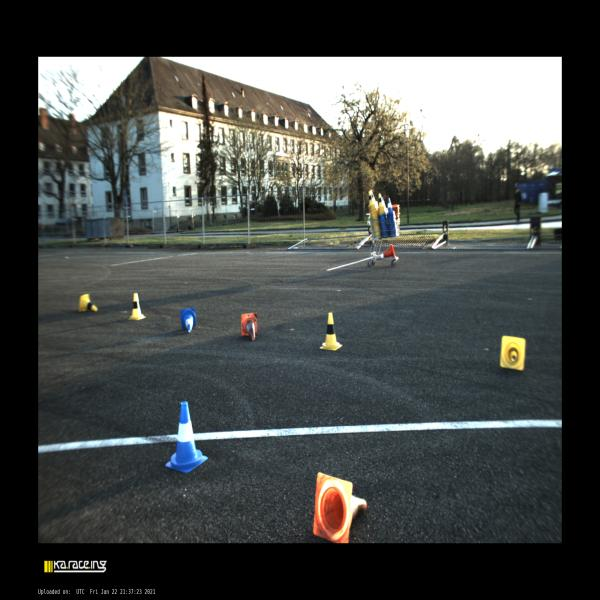blue_cone: (165, 401, 208, 473), (181, 308, 196, 332)
orange_cone: (313, 472, 367, 544), (241, 313, 257, 340)
yellow_cone: (500, 336, 525, 370), (320, 312, 342, 350), (128, 294, 146, 320), (78, 294, 98, 312)
